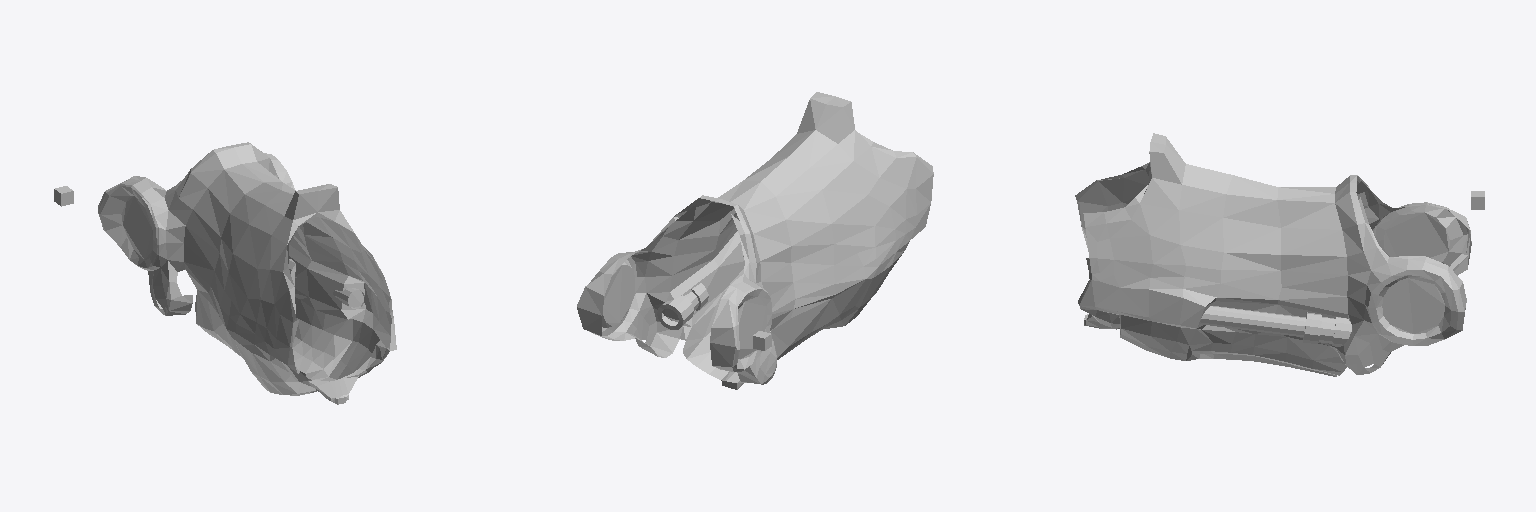
Rendered from X02RightCalf.obj.
The picture shows the model from 3 angles: view 1: azimuth 30°, elevation 25°; view 2: azimuth 150°, elevation 25°; view 3: azimuth 270°, elevation 25°; orthographic projection.
Parts seen in each view (by area): view 1: CPA; view 2: CPA; view 3: CPA.
Boxes of the visible parts, box(x1,y1,x2,y2) form: CPA: box(98, 142, 396, 404); CPA: box(577, 92, 933, 389); CPA: box(1075, 133, 1471, 376).
Size of the model in its own units: 32.55 by 35.42 by 58.22.